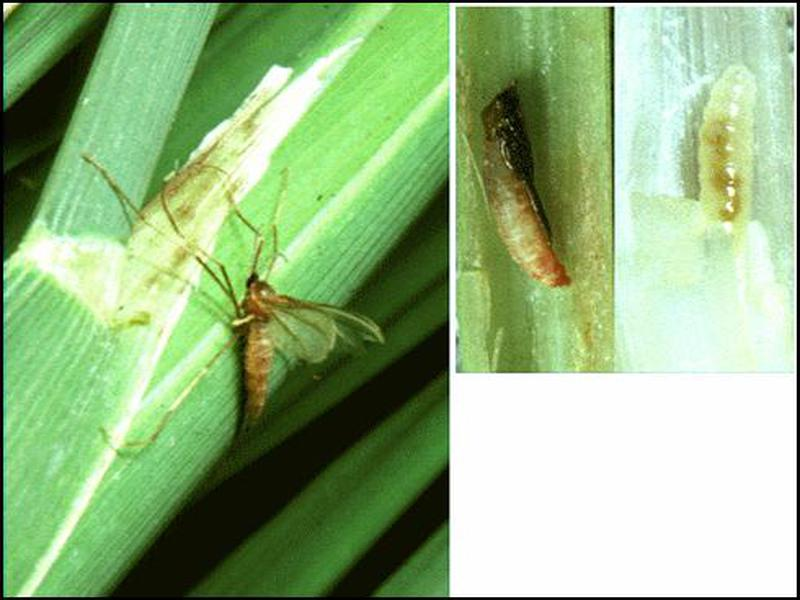Gall_midge: (180, 251, 367, 442), (467, 66, 584, 296), (684, 54, 777, 234)
